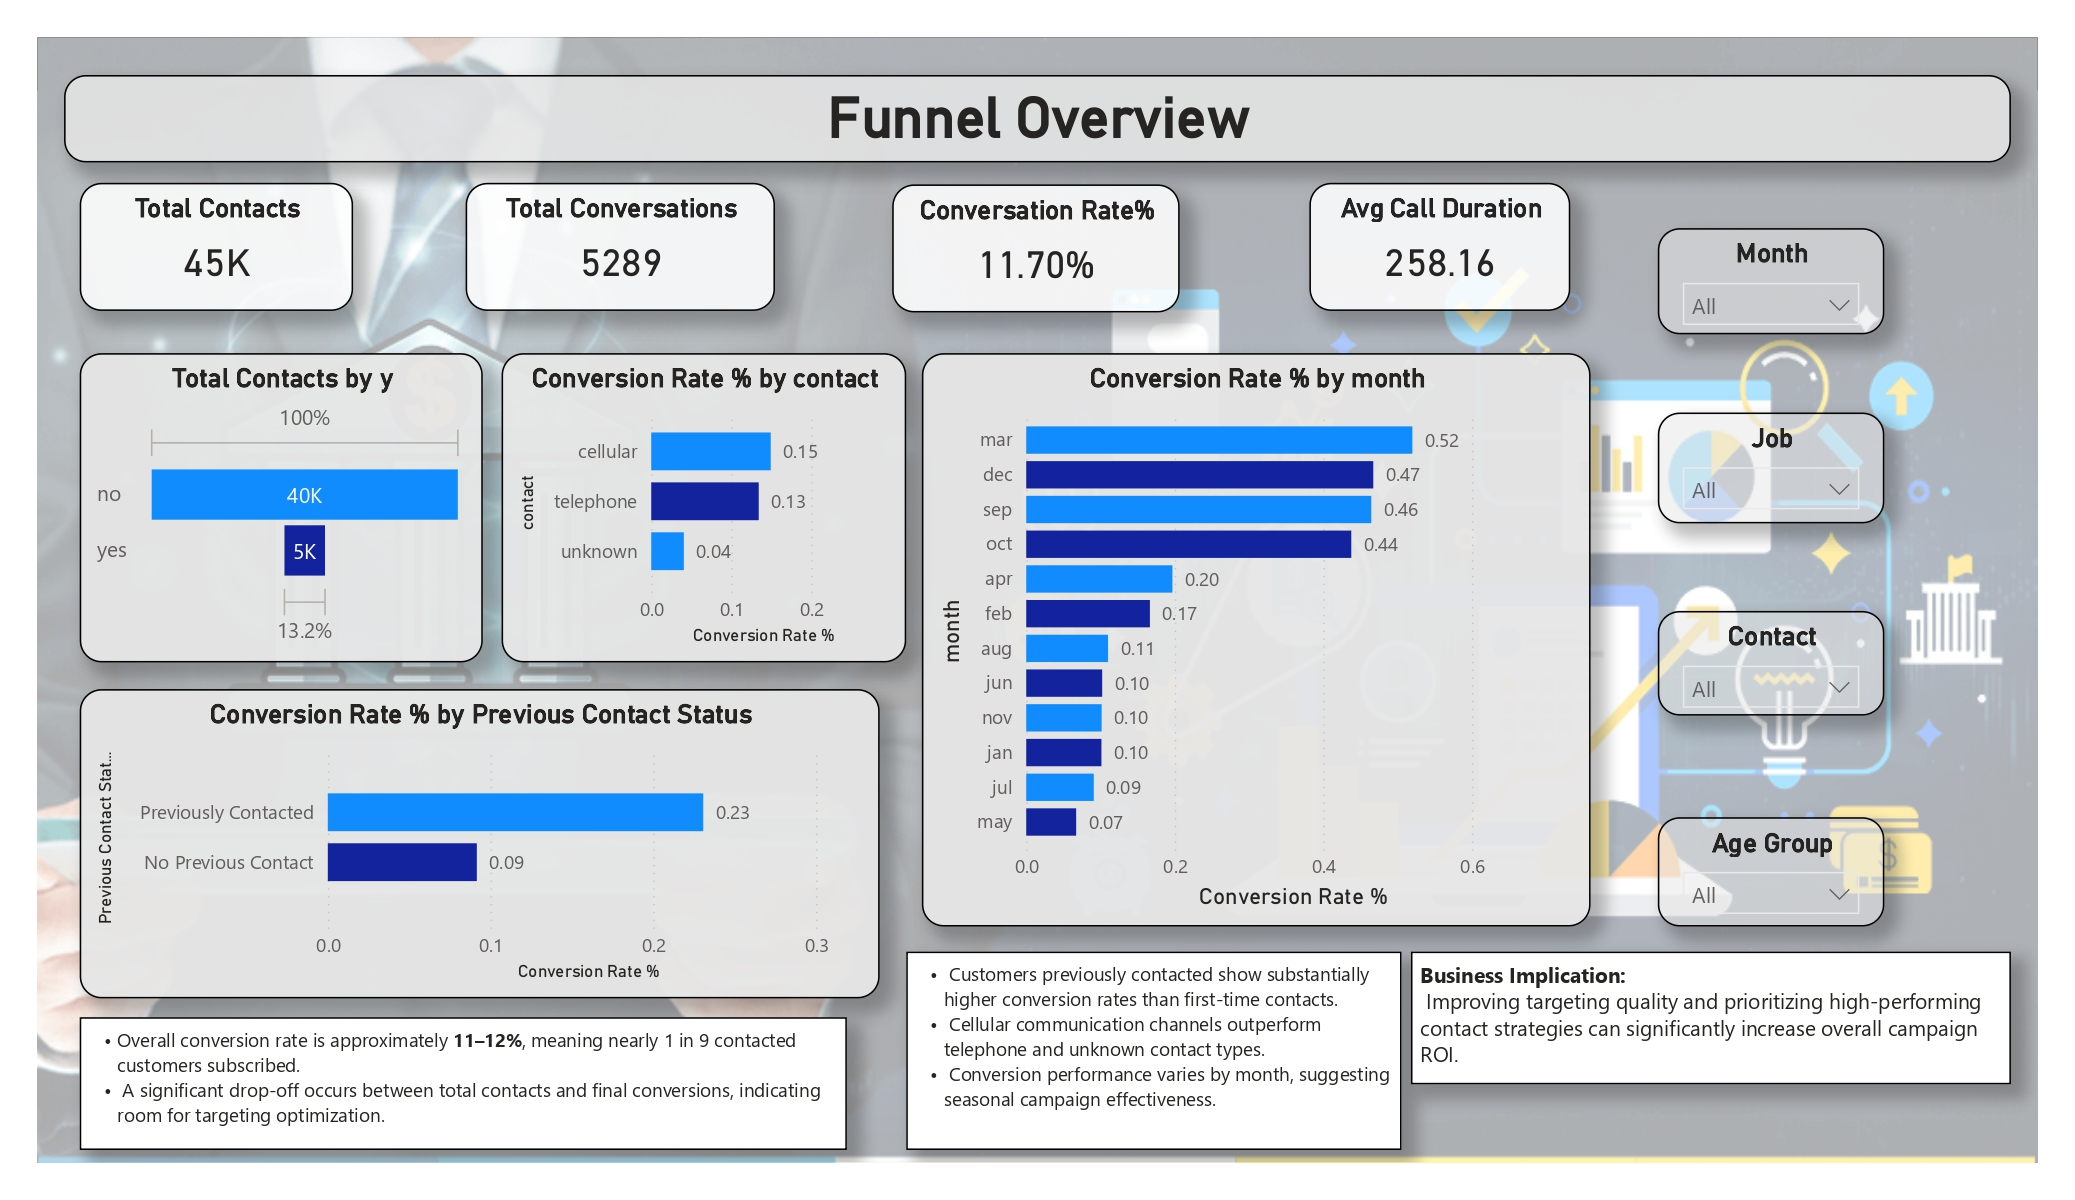

What the dashboard file says about the page in this screenshot:
{"tool":"powerbi","page":{"name":"Funnel Overview Dashboard","canvas":[1280,720],"ordinal":4},"visuals":[{"type":"textbox","title":"Funnel Overview","box":[17.1,24.2,1245.8,55.6],"z":0},{"type":"card","title":"Total Contacts","fields":{"Values":["bank-full.Total Contacts"]},"box":[26.9,92.9,174.9,81.9],"z":1000},{"type":"card","title":"Total Conversations","fields":{"Values":["bank-full.Total Conversions"]},"box":[273.9,92.9,198.1,81.9],"z":2000},{"type":"card","title":"Conversation Rate%","fields":{"Values":["bank-full.Conversion Rate %"]},"box":[546.6,94.2,184.6,81.9],"z":3000},{"type":"card","title":"Avg Call Duration","fields":{"Values":["Avg(bank-full.duration)"]},"box":[814.4,92.9,166.3,81.9],"z":4000},{"type":"funnel","fields":{"Category":["bank-full.y"],"Y":["bank-full.Total Contacts"]},"box":[26.9,201.8,258,198.1],"z":5000},{"type":"clusteredBarChart","fields":{"Y":["bank-full.Conversion Rate %"],"Category":["bank-full.contact"]},"box":[297.1,201.8,259.2,198.1],"z":6000},{"type":"clusteredBarChart","fields":{"Y":["bank-full.Conversion Rate %"],"Category":["bank-full.Previous Contact Status"]},"box":[26.9,417,512.4,198.1],"z":7000},{"type":"clusteredBarChart","fields":{"Y":["bank-full.Conversion Rate %"],"Category":["bank-full.month"]},"box":[566.2,201.8,428,366.8],"z":8000},{"type":"slicer","title":"Month","fields":{"Values":["bank-full.month"]},"box":[1037,122.3,145.5,67.3],"z":9000},{"type":"slicer","title":"Job","fields":{"Values":["bank-full.job"]},"box":[1037,239.7,145.5,70.9],"z":10000},{"type":"slicer","title":"Contact","fields":{"Values":["bank-full.contact"]},"box":[1037,366.8,145.5,67.3],"z":11000},{"type":"slicer","title":"Age Group","fields":{"Values":["bank-full.Age Group"]},"box":[1037,498.9,145.5,69.7],"z":12000},{"type":"textbox","box":[26.9,627.3,491.6,84.4],"z":13000},{"type":"textbox","box":[556.4,584.5,316.7,127.2],"z":13001},{"type":"textbox","box":[879.2,584.5,384,85.6],"z":13002}]}

Visuals, with their boxes on the page's 1280x720 design canvas (x1, y1, x2, y2). These are canvas units, not pixel positions in the 2075x1200 screenshot, which may show the page scaled, cropped or inside an application window:
"Funnel Overview" textbox: 17/24/1263/80
"Total Contacts" card: 27/93/202/175
"Total Conversations" card: 274/93/472/175
"Conversation Rate%" card: 547/94/731/176
"Avg Call Duration" card: 814/93/981/175
funnel - bank-full.y x bank-full.Total Contacts: 27/202/285/400
clusteredBarChart - bank-full.Conversion Rate % x bank-full.contact: 297/202/556/400
clusteredBarChart - bank-full.Conversion Rate % x bank-full.Previous Contact Status: 27/417/539/615
clusteredBarChart - bank-full.Conversion Rate % x bank-full.month: 566/202/994/569
"Month" slicer: 1037/122/1182/190
"Job" slicer: 1037/240/1182/311
"Contact" slicer: 1037/367/1182/434
"Age Group" slicer: 1037/499/1182/569
textbox: 27/627/518/712
textbox: 556/584/873/712
textbox: 879/584/1263/670
